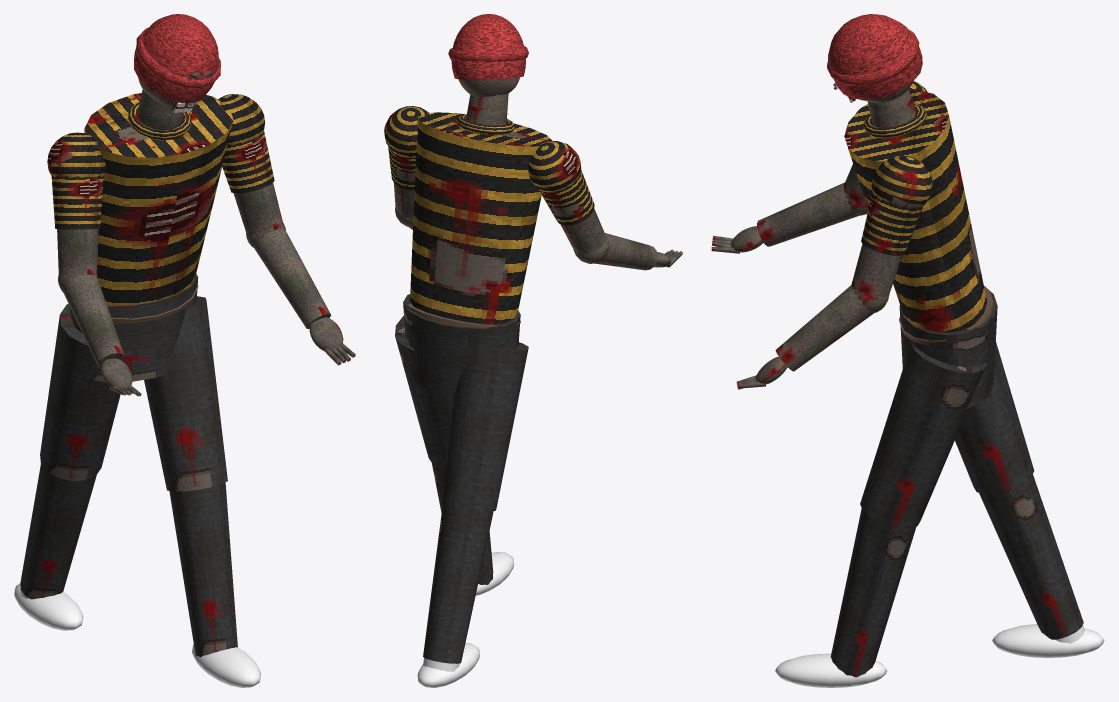
Rendered from Zombie_072.glb.
3 views of the same model, side by side, from view 1: azimuth 30°, elevation 25°; view 2: azimuth 150°, elevation 25°; view 3: azimuth 270°, elevation 25° (orthographic). The views are drawn at different scales.
Visible parts, largest first — view 1: Zombie_072, object 42, object 10, object 3, object 43, object 11, object 4; view 2: Zombie_072, object 42, object 3, object 43, object 16; view 3: Zombie_072, object 42, object 10, object 3, object 43, object 4.
Boxes of the visible parts, x1,y1,x2,y2 form: Zombie_072: (14, 89, 283, 687); object 42: (134, 14, 218, 103); object 10: (253, 228, 331, 328); object 3: (62, 274, 125, 369); object 43: (136, 27, 220, 88); object 11: (309, 317, 343, 350); object 4: (101, 358, 132, 387); Zombie_072: (384, 93, 606, 687); object 42: (451, 14, 525, 80); object 3: (594, 233, 657, 270); object 43: (448, 46, 528, 61); object 16: (458, 77, 519, 96); Zombie_072: (775, 81, 1104, 687); object 42: (828, 14, 922, 99); object 10: (775, 285, 874, 371); object 3: (757, 182, 859, 246); object 43: (827, 30, 919, 86); object 4: (730, 226, 763, 252).
Size of the model in its own units: 0.717 by 1.8 by 0.9737.
16 materials, 6 textured.
